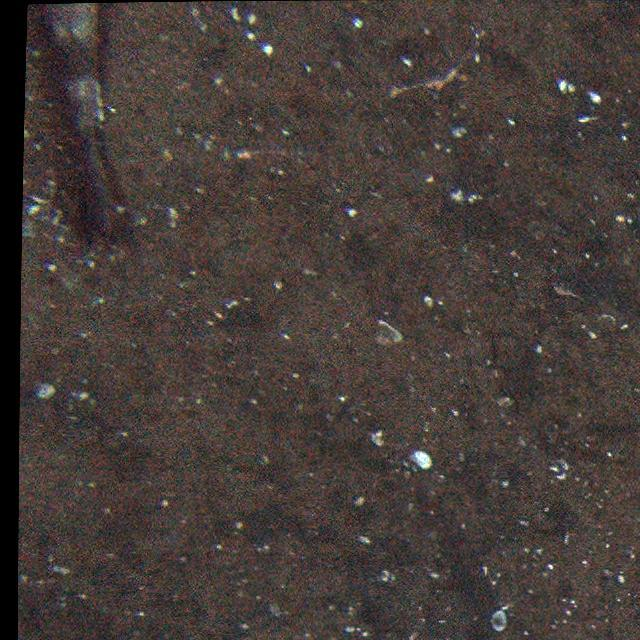roundfish: (42, 2, 130, 254)
